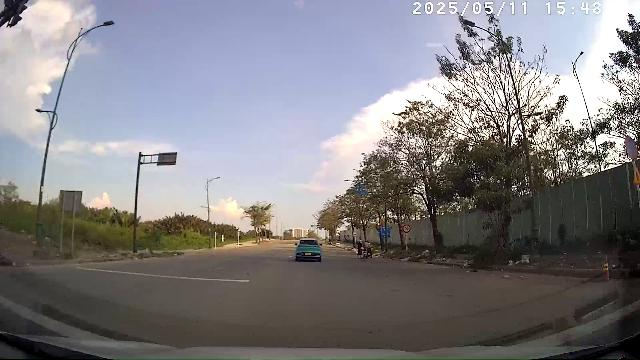127-toc-do-toi-da-50: (402, 224, 411, 233)
